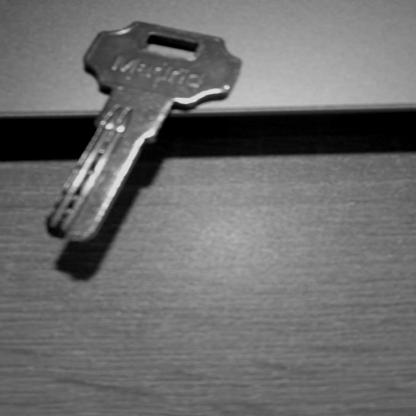key: (46, 17, 241, 253)
